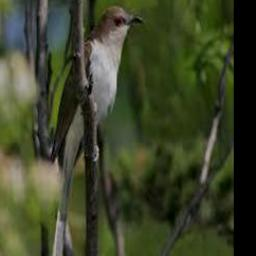Cuckoo: (49, 5, 144, 256)
